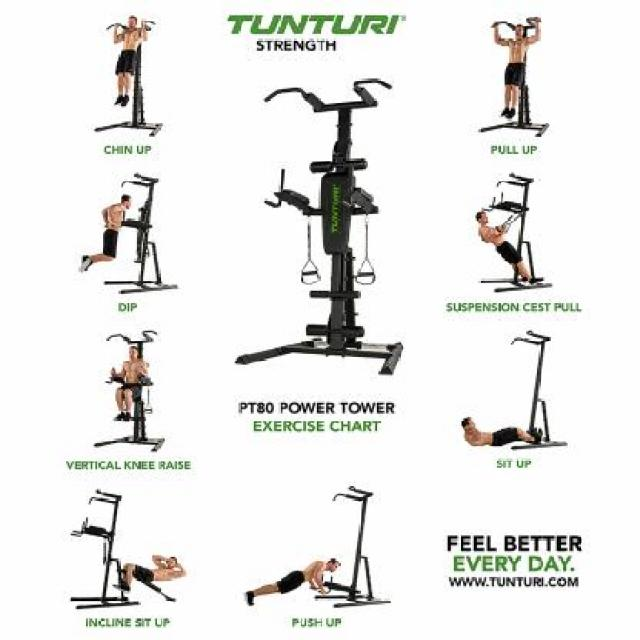chinning dipping: (75, 172, 178, 298), (91, 15, 166, 140), (94, 328, 166, 452), (478, 15, 550, 138)
